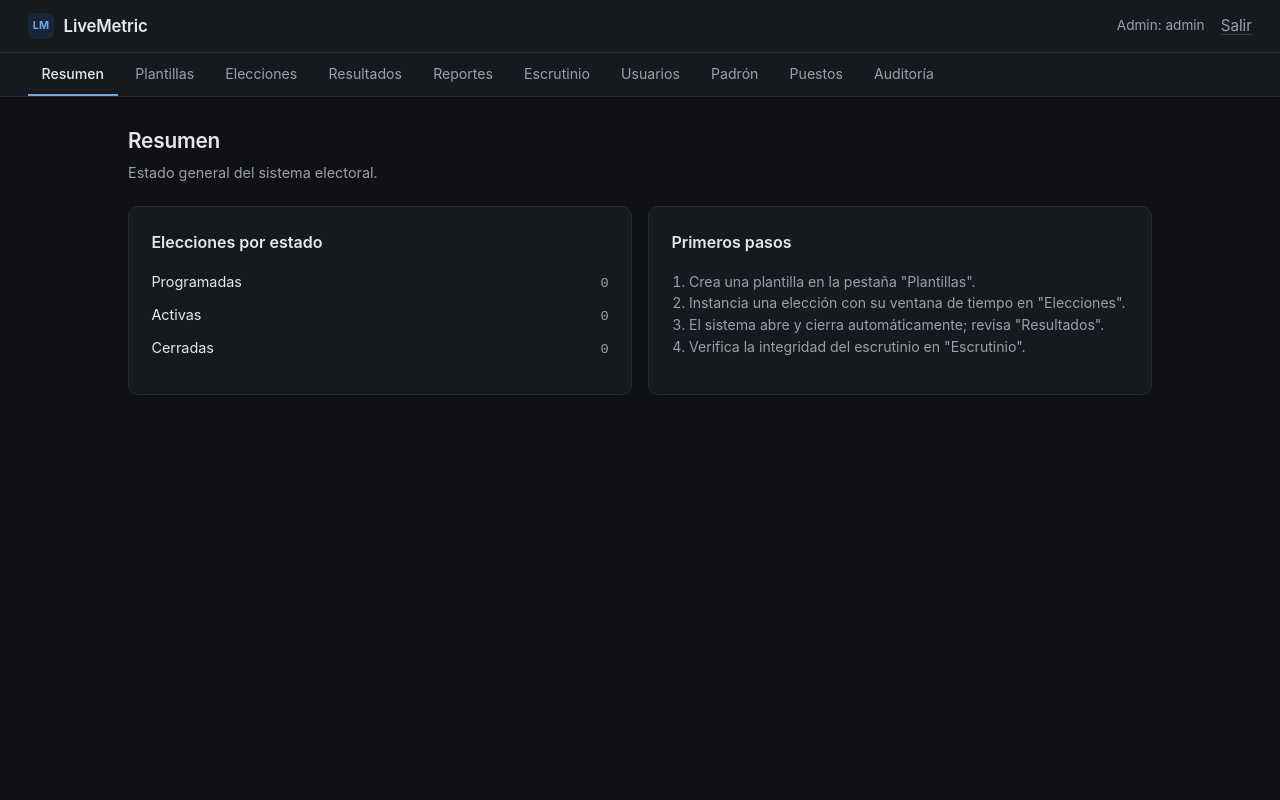
Scenario: Elecciones › programa la elección con la plantilla y las fechas en ISO
This screenshot has width=1280, height=800.
Click the button "Elecciones" at (261, 74), box [212, 53, 311, 96]
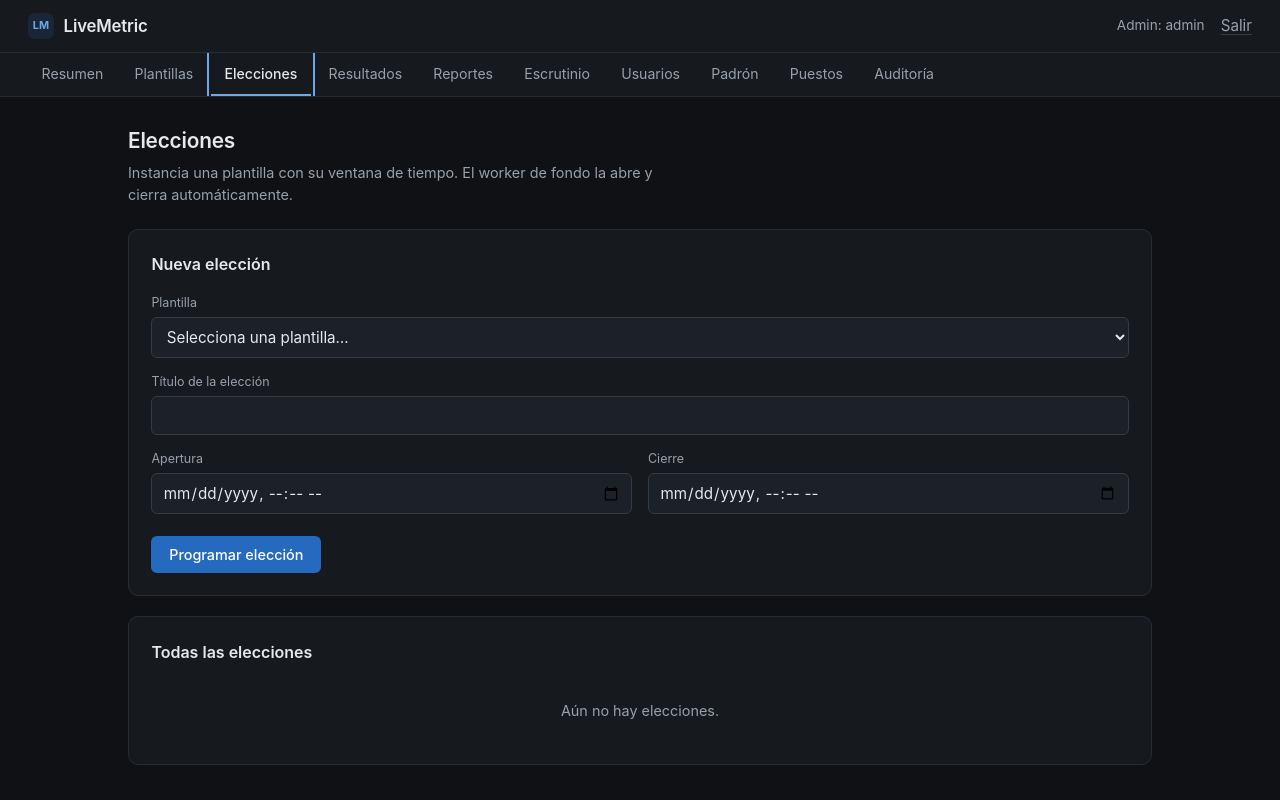
Select "Consulta" in the dropdown at (640, 337), box [151, 317, 1129, 358]
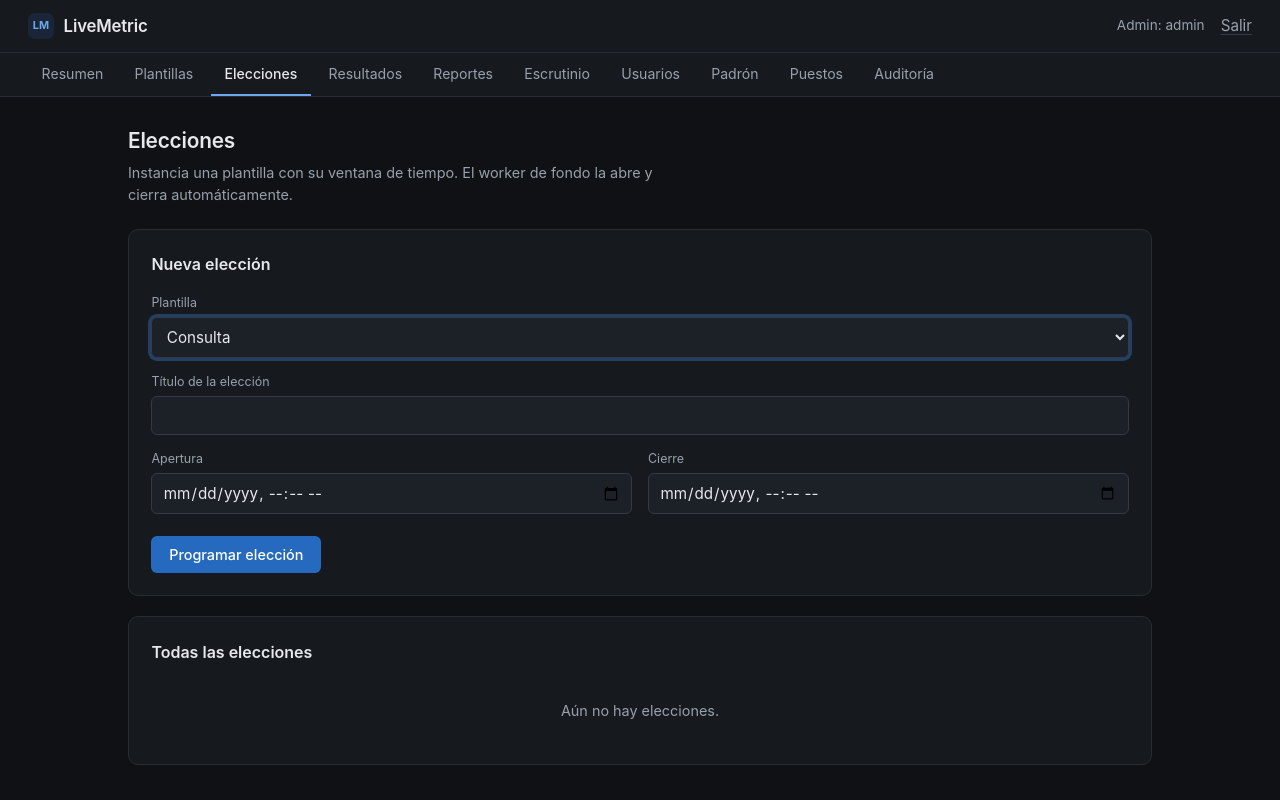
Type "Consejo 2026" into the field below "Título de la elección" at (640, 416), box [151, 396, 1129, 435]
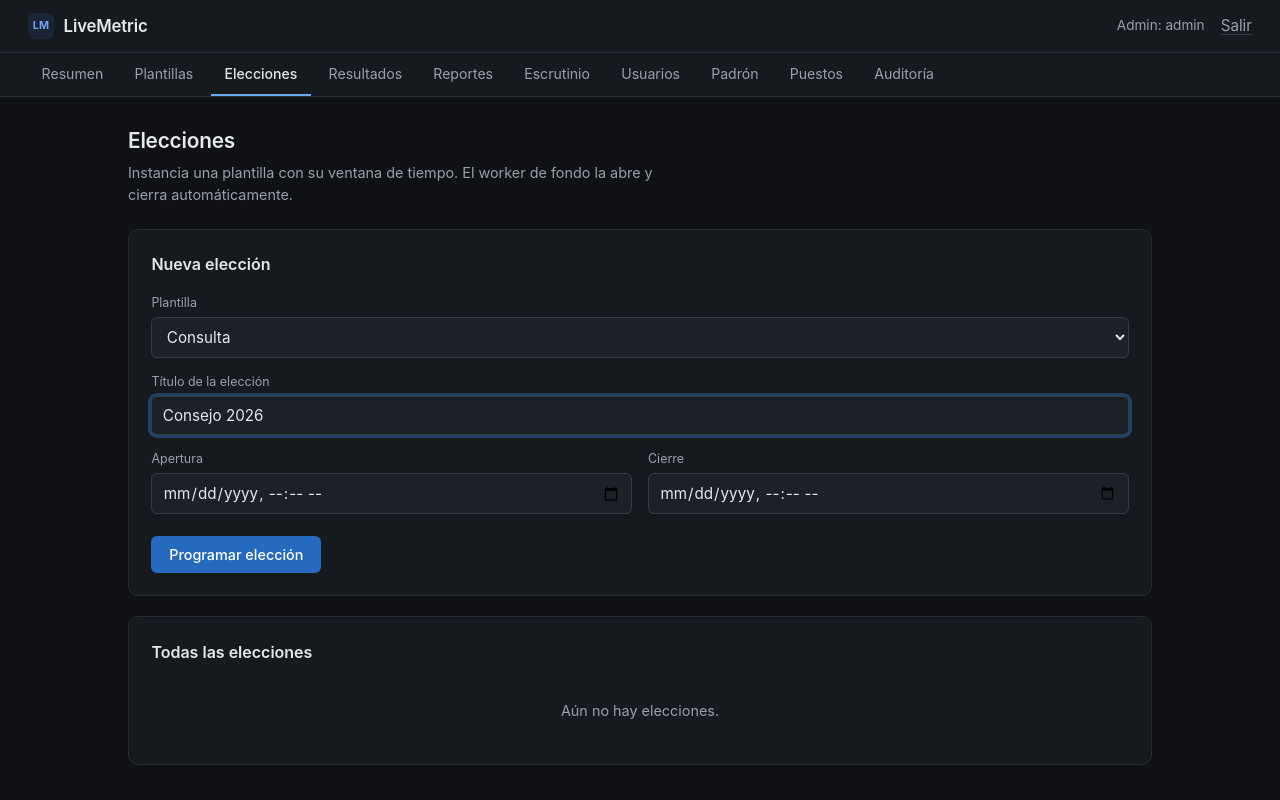
Type "2026-10-05T08:00" into the field below "Apertura" at (392, 494), box [151, 473, 632, 514]
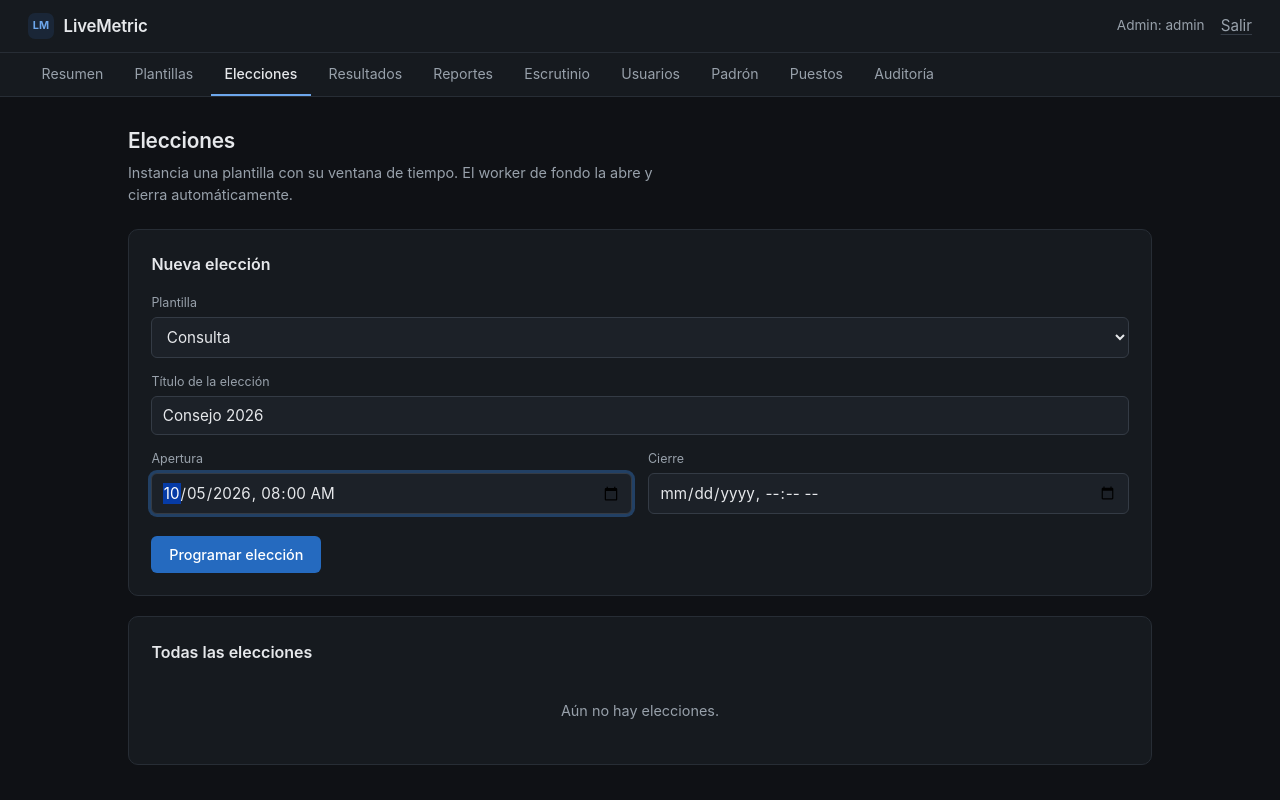
Type "2026-10-05T17:00" into the field below "Cierre" at (888, 494), box [648, 473, 1129, 514]
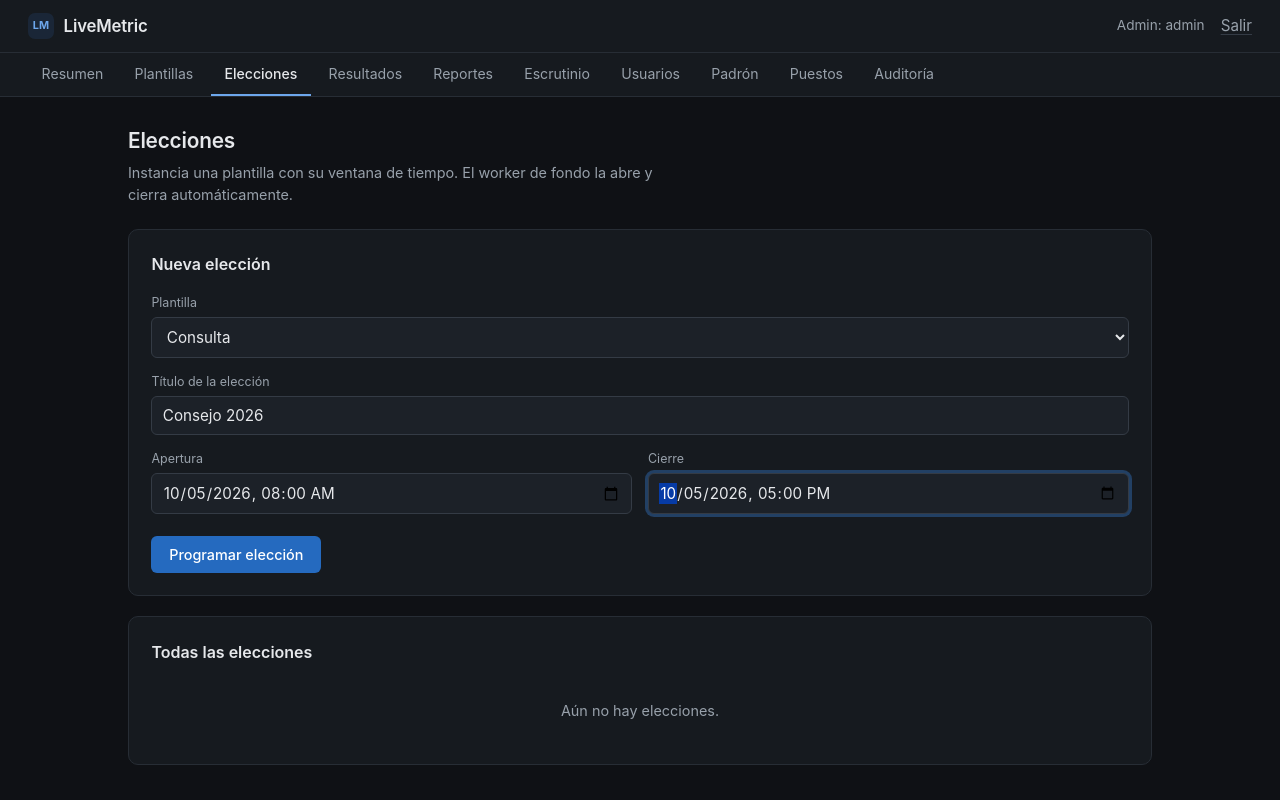
Click the button "Programar elección" at (236, 555), box [151, 536, 321, 573]
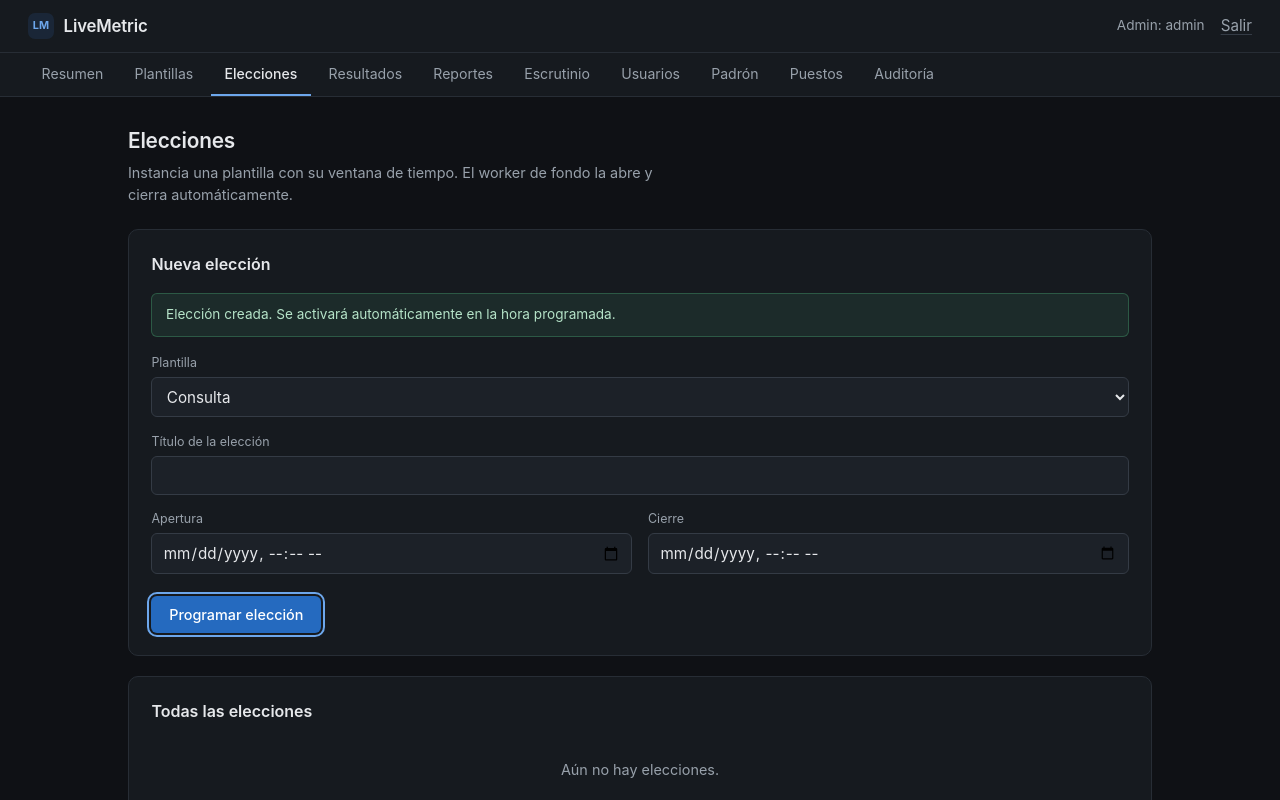
Now the text "Elección creada" is shown, box [166, 306, 616, 322]
